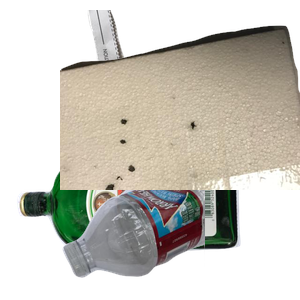glass: (14, 150, 247, 300)
paper: (85, 10, 224, 190)
plastic: (60, 190, 300, 280)
trash: (60, 23, 300, 203)
